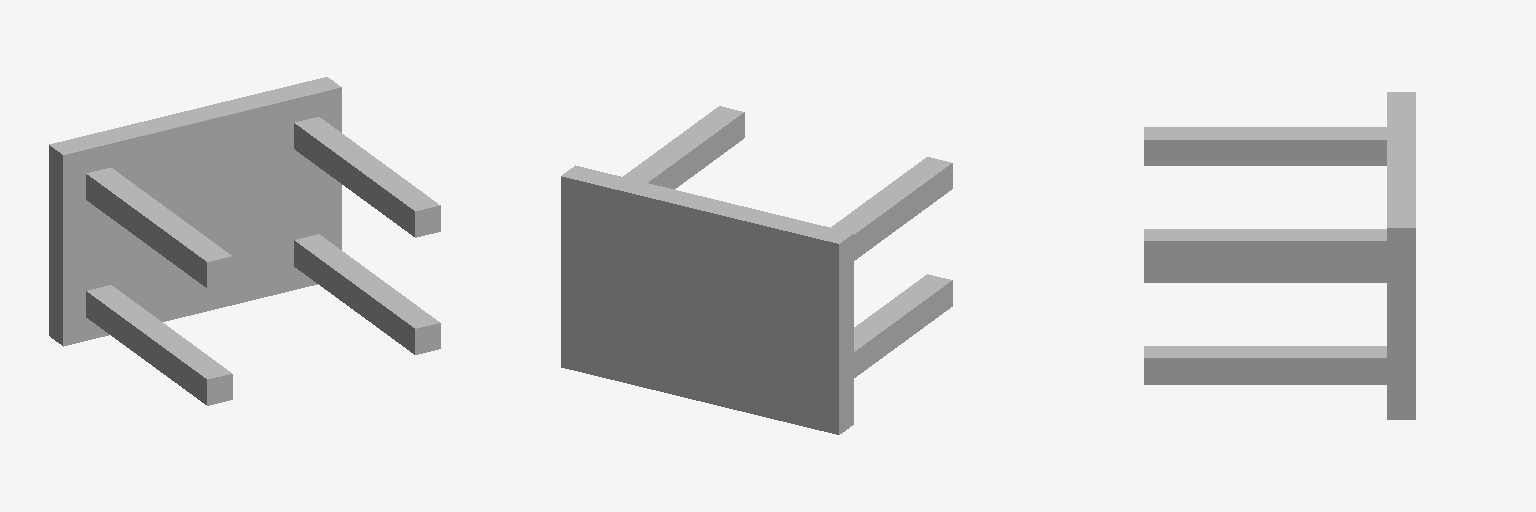
Rendered from random_table53.obj.
3 views of the same model, side by side, from view 1: azimuth 30°, elevation 25°; view 2: azimuth 150°, elevation 25°; view 3: azimuth 270°, elevation 25° (orthographic).
Parts seen in each view (by area): view 1: Table_Cube.1330, TableLeg0_Cube.1331, TableLeg1_Cube.1332, TableLeg2_Cube.1333, TableLeg3_Cube.1334; view 2: Table_Cube.1330, TableLeg1_Cube.1332, TableLeg3_Cube.1334, TableLeg0_Cube.1331; view 3: Table_Cube.1330, TableLeg1_Cube.1332, TableLeg2_Cube.1333, TableLeg0_Cube.1331, TableLeg3_Cube.1334.
Part boxes in pixels (bbox=[...]): Table_Cube.1330: bbox=[49, 77, 341, 346]; TableLeg0_Cube.1331: bbox=[294, 117, 440, 237]; TableLeg1_Cube.1332: bbox=[86, 168, 232, 288]; TableLeg2_Cube.1333: bbox=[294, 234, 440, 354]; TableLeg3_Cube.1334: bbox=[86, 285, 232, 405]; Table_Cube.1330: bbox=[561, 165, 853, 434]; TableLeg1_Cube.1332: bbox=[831, 157, 952, 260]; TableLeg3_Cube.1334: bbox=[854, 274, 952, 377]; TableLeg0_Cube.1331: bbox=[623, 106, 744, 189]; Table_Cube.1330: bbox=[1387, 92, 1415, 419]; TableLeg1_Cube.1332: bbox=[1144, 127, 1386, 165]; TableLeg2_Cube.1333: bbox=[1144, 346, 1386, 384]; TableLeg0_Cube.1331: bbox=[1144, 229, 1386, 266]; TableLeg3_Cube.1334: bbox=[1144, 267, 1386, 282].
Bounding box in the file's own units: 6.54 × 4.29 × 5.53.